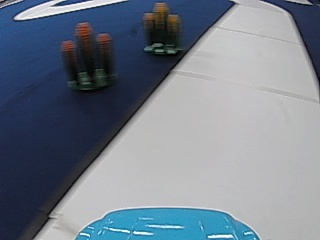corn: (62, 19, 116, 94), (142, 0, 182, 55)
